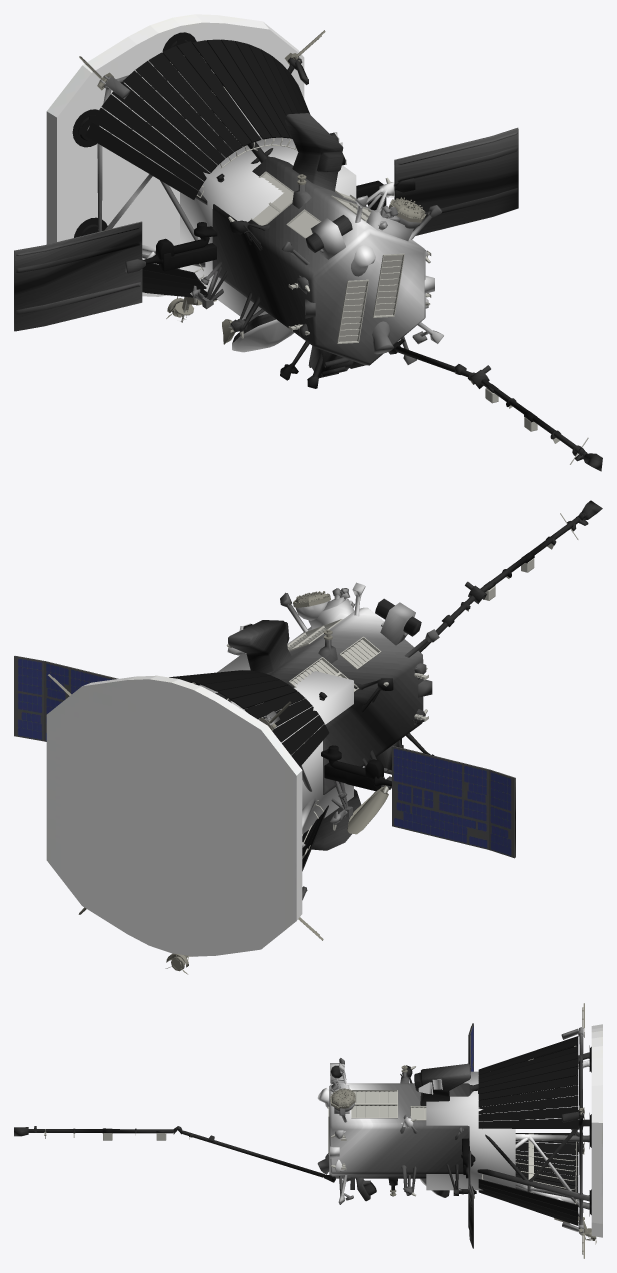
Rendered from parker-solar-probe.glb.
3 views of the same model, one above another, from view 1: azimuth 30°, elevation 25°; view 2: azimuth 150°, elevation 25°; view 3: azimuth 270°, elevation 25° (orthographic). The views are drawn at different scales.
Visible parts, largest first — view 1: BUS, CoolingSystem, Instruments, _root, magnetometers, solarArray_arms, HGA; view 2: Instruments, BUS, CoolingSystem, _root, magnetometers, solarArray_arms; view 3: BUS, CoolingSystem, _root, Instruments, magnetometers.
Boxes of the visible parts, left/top/right/bottom form: BUS: left=14, top=49, right=602, bottom=471; CoolingSystem: left=72, top=32, right=310, bottom=299; Instruments: left=14, top=14, right=517, bottom=344; _root: left=180, top=136, right=356, bottom=319; magnetometers: left=103, top=55, right=588, bottom=464; solarArray_arms: left=143, top=180, right=396, bottom=271; HGA: left=232, top=319, right=294, bottom=352; Instruments: left=14, top=591, right=514, bottom=974; BUS: left=16, top=500, right=602, bottom=900; CoolingSystem: left=169, top=670, right=329, bottom=871; _root: left=199, top=653, right=353, bottom=834; magnetometers: left=187, top=513, right=578, bottom=960; solarArray_arms: left=321, top=745, right=391, bottom=791; BUS: left=14, top=1023, right=589, bottom=1248; CoolingSystem: left=478, top=1036, right=591, bottom=1225; _root: left=426, top=1071, right=515, bottom=1190; Instruments: left=330, top=1003, right=602, bottom=1258; magnetometers: left=44, top=1045, right=591, bottom=1240.
Bounding box in the file's own units: 4.51 × 2.53 × 6.6.
6 materials, 2 textured.
